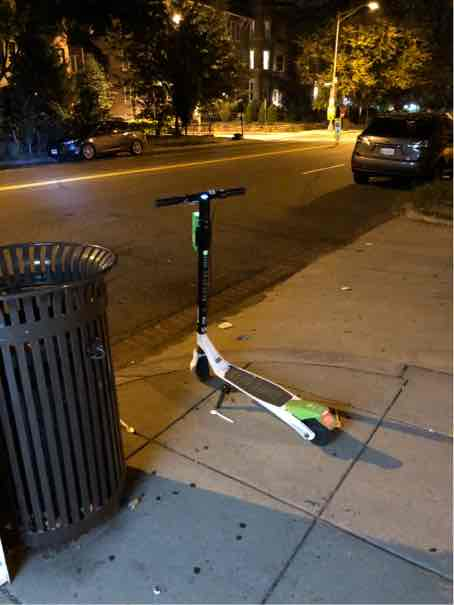scooter: (147, 168, 343, 467)
